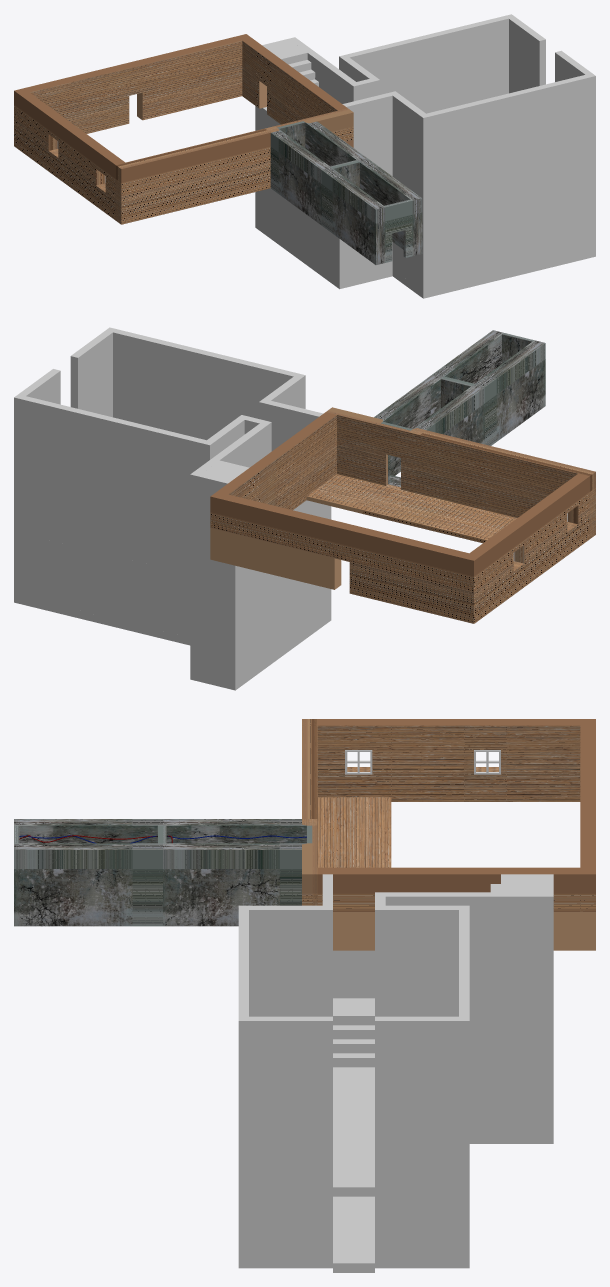
Rendered from wall_test.FBX.
3 renders of one model, top to bottom at view 1: azimuth 30°, elevation 25°; view 2: azimuth 150°, elevation 25°; view 3: azimuth 270°, elevation 25°, orthographic. The views are drawn at different scales.
Visible parts, largest first — view 1: Box005, Box003, Box001, Box002, Box006; view 2: Box005, Box003, Box001, Box002, Box006, Box004; view 3: Box005, Box003, Box001, Box002, Box006, Box004.
Part boxes in pixels (x1,y1,x2,y2): Box005: (255,14,595,298); Box003: (14,34,353,224); Box001: (321,158,422,264); Box002: (270,121,367,225); Box006: (266,41,423,242); Box005: (14,327,331,690); Box003: (210,407,595,623); Box001: (431,330,545,445); Box002: (374,375,484,487); Box006: (14,460,249,582); Box004: (14,594,190,645); Box005: (238,874,553,1268); Box003: (302,719,595,950); Box001: (14,819,162,926); Box002: (163,819,312,926); Box006: (333,874,542,1196); Box004: (333,1196,374,1272).
Size of the model in its own units: 690 by 260 by 554.
